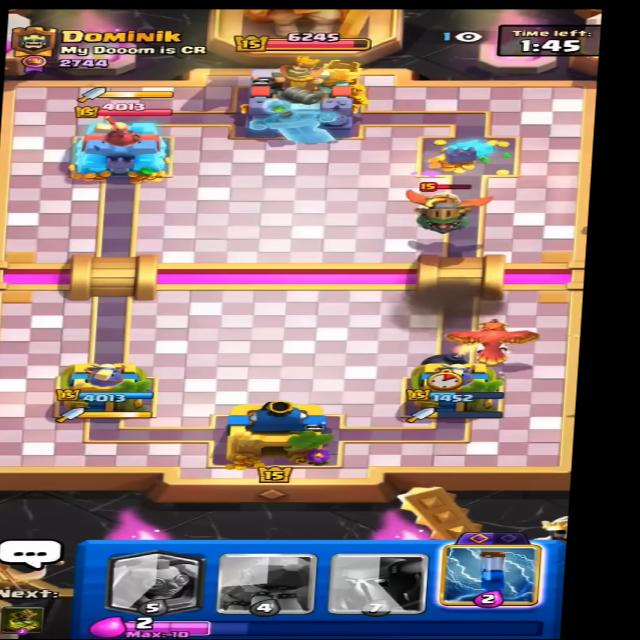Infernodragon: (397, 178, 501, 236)
